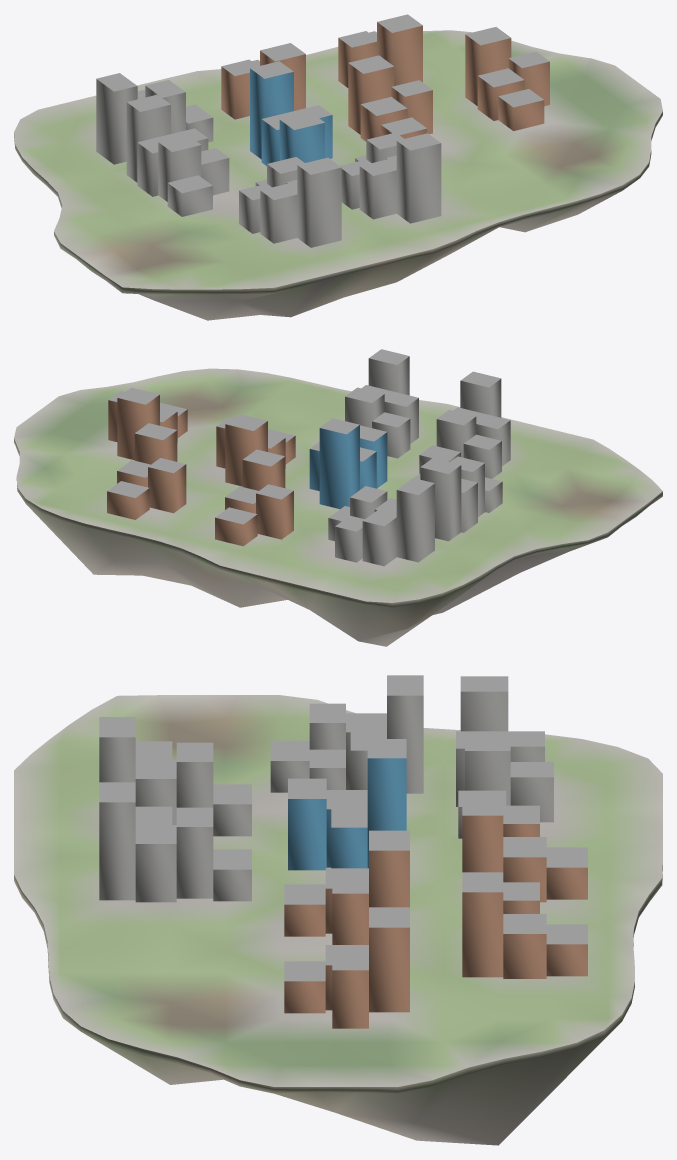
File: SKY-066.lod1.glb
3 views of the same model, one above another, from view 1: azimuth 30°, elevation 25°; view 2: azimuth 150°, elevation 25°; view 3: azimuth 270°, elevation 25° (orthographic). The views are drawn at different scales.
Parts seen in each view (by area): view 1: deck, buildings, rock; view 2: deck, buildings, rock; view 3: deck, buildings, rock.
Part boxes in pixels (x1=…): deck: x1=14, y1=30, x2=662, y2=289; buildings: x1=96, y1=14, x2=549, y2=247; rock: x1=14, y1=111, x2=662, y2=320; deck: x1=14, y1=368, x2=662, y2=602; buildings: x1=107, y1=349, x2=510, y2=566; rock: x1=14, y1=439, x2=662, y2=646; deck: x1=14, y1=695, x2=662, y2=1086; buildings: x1=99, y1=675, x2=587, y2=1028; rock: x1=14, y1=865, x2=662, y2=1145.
Bounding box in the file's own units: 203 × 66.5 × 142.
